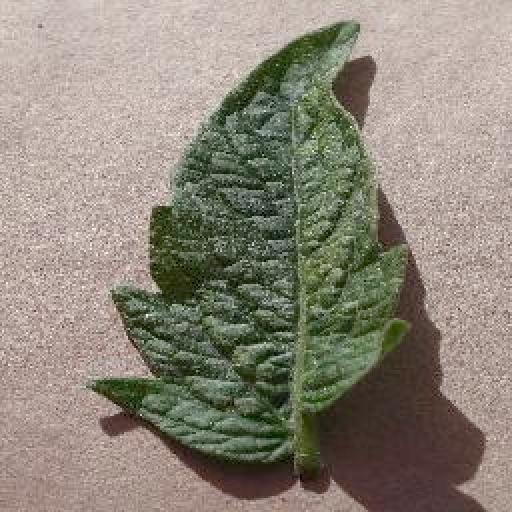disease_tomato: (86, 18, 410, 464)
